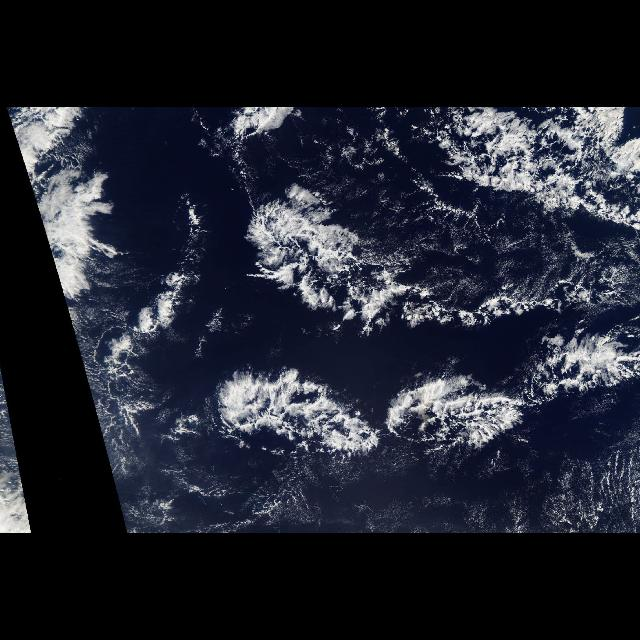Fish: (209, 175, 639, 482)
